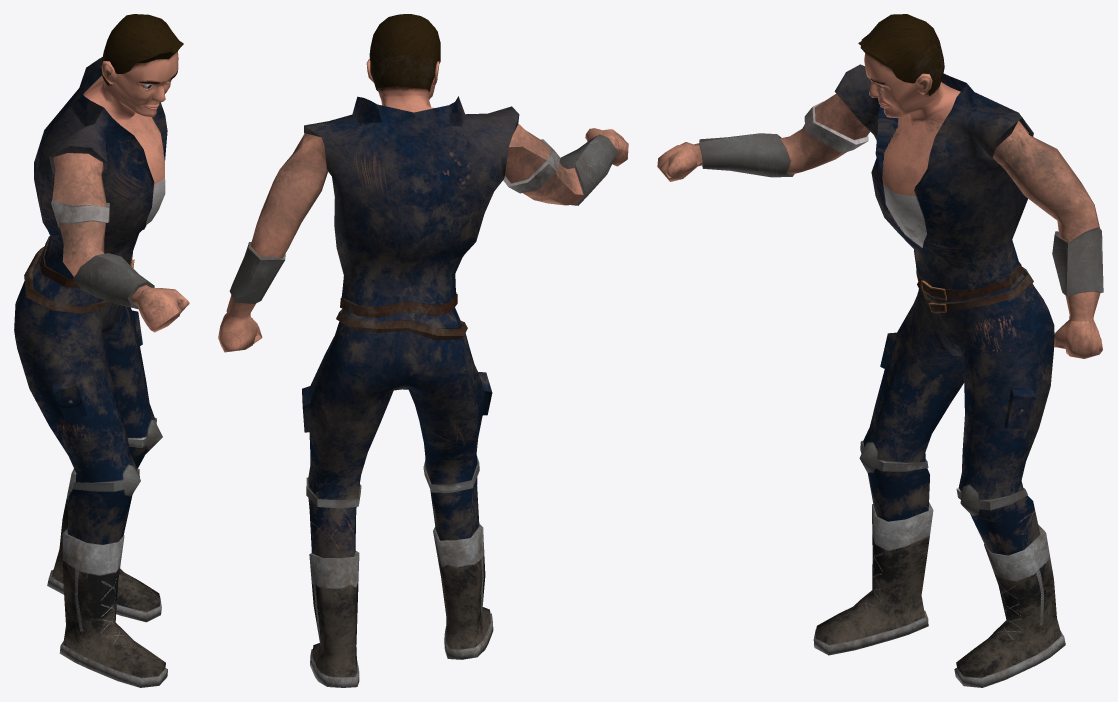
Rendered from Anim_puerta_mal_jugador.0026.obj.
3 renders of one model, left to right at view 1: azimuth 30°, elevation 25°; view 2: azimuth 150°, elevation 25°; view 3: azimuth 270°, elevation 25°, orthographic. The views are drawn at different scales.
Visible parts, largest first — view 1: polySurface1; view 2: polySurface1; view 3: polySurface1.
Boxes of the visible parts, left/top/right/bottom form: polySurface1: left=14, top=14, right=189, bottom=687; polySurface1: left=218, top=14, right=628, bottom=687; polySurface1: left=657, top=14, right=1103, bottom=687.
Bounding box in the file's own units: 3.43 × 9.37 × 5.89.
